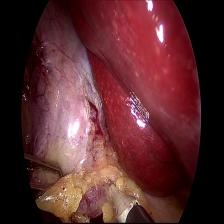Grasper: (22, 150, 65, 196)
Hook: (104, 179, 140, 221)
